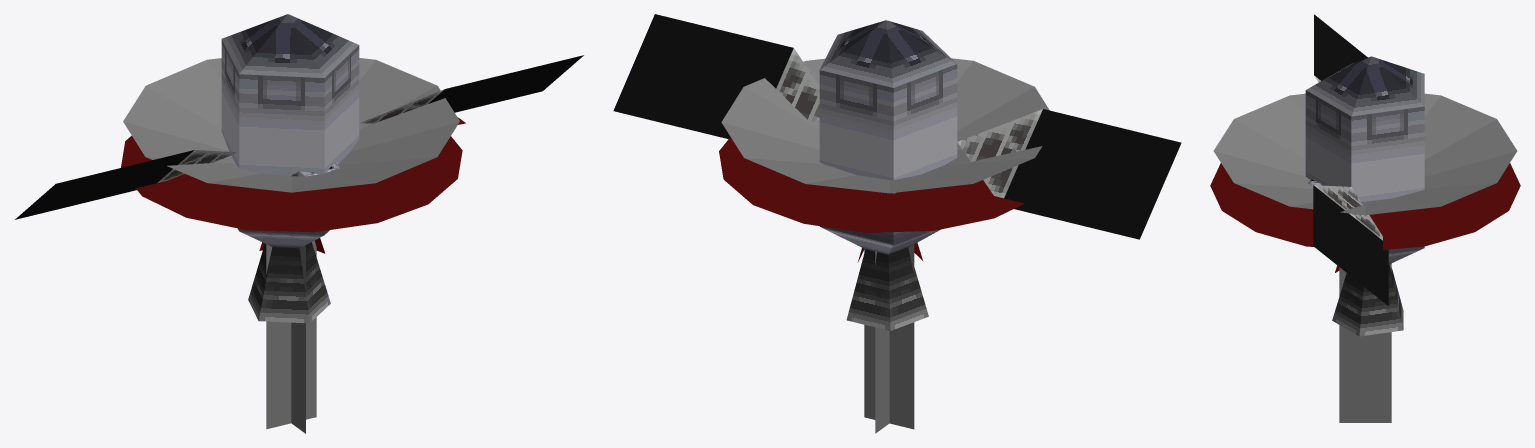
The model's file is v82_vertigo.obj.
The picture shows the model from 3 angles, left to right: view 1: azimuth 30°, elevation 25°; view 2: azimuth 150°, elevation 25°; view 3: azimuth 270°, elevation 25°; orthographic projection. The views are drawn at different scales.
Visible parts, largest first — view 1: v82_vertigo_tmd_013, v82_vertigo_tmd_019, v82_vertigo_tmd_014, v82_vertigo_tmd_018; view 2: v82_vertigo_tmd_013, v82_vertigo_tmd_019, v82_vertigo_tmd_014, v82_vertigo_tmd_018; view 3: v82_vertigo_tmd_013, v82_vertigo_tmd_019, v82_vertigo_tmd_014, v82_vertigo_tmd_018.
Boxes of the visible parts, x1=… form: v82_vertigo_tmd_013: x1=15, y1=14, x2=583, y2=323; v82_vertigo_tmd_019: x1=123, y1=58, x2=459, y2=192; v82_vertigo_tmd_014: x1=121, y1=135, x2=462, y2=232; v82_vertigo_tmd_018: x1=266, y1=240, x2=316, y2=433; v82_vertigo_tmd_013: x1=613, y1=14, x2=1181, y2=330; v82_vertigo_tmd_019: x1=721, y1=58, x2=1049, y2=193; v82_vertigo_tmd_014: x1=719, y1=137, x2=1024, y2=232; v82_vertigo_tmd_018: x1=864, y1=244, x2=914, y2=433; v82_vertigo_tmd_013: x1=1305, y1=14, x2=1424, y2=336; v82_vertigo_tmd_019: x1=1213, y1=93, x2=1517, y2=215; v82_vertigo_tmd_014: x1=1210, y1=163, x2=1520, y2=249; v82_vertigo_tmd_018: x1=1339, y1=263, x2=1391, y2=422.
Size of the model in its own units: 5.88 by 4.33 by 3.32.
Materials: 54 (39 with a texture image).
